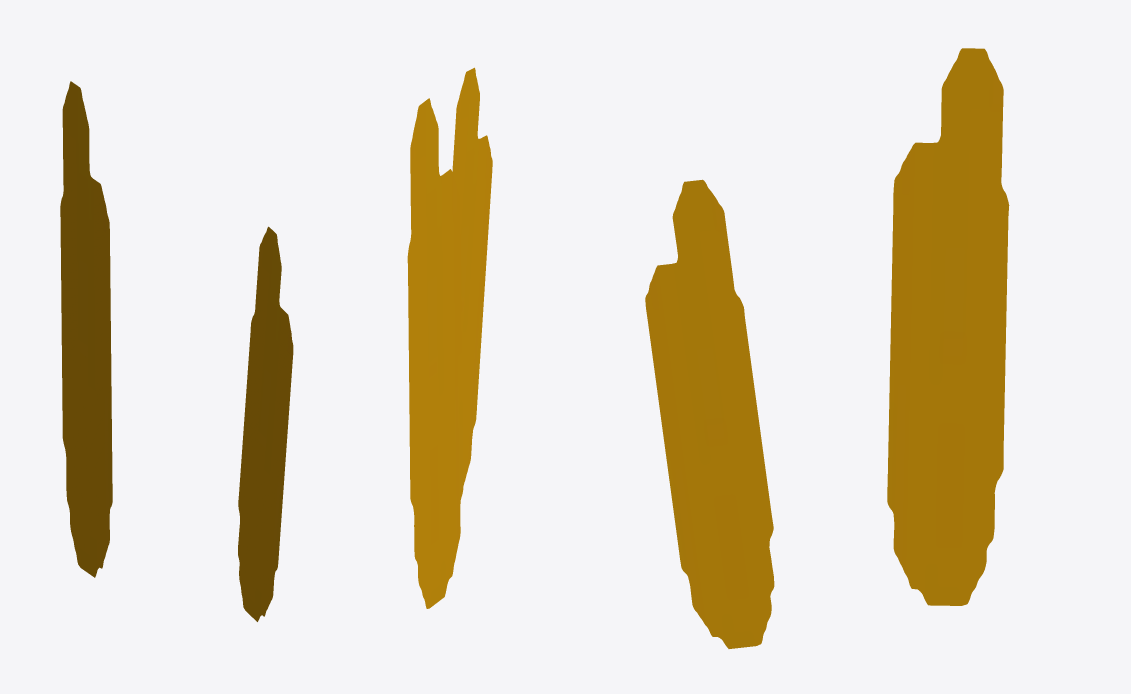
File: fire-torch03-art.glb
3 renders of one model, left to right at view 1: azimuth 30°, elevation 25°; view 2: azimuth 150°, elevation 25°; view 3: azimuth 270°, elevation 25°, orthographic. The views are drawn at different scales.
Visible parts, largest first — view 1: FireTorch03_Art; view 2: FireTorch03_Art; view 3: FireTorch03_Art.
Boxes of the visible parts, left/top/right/bottom form: FireTorch03_Art: left=60, top=81, right=293, bottom=621; FireTorch03_Art: left=407, top=67, right=492, bottom=608; FireTorch03_Art: left=645, top=48, right=1009, bottom=648.
Size of the model in its own units: 0.0407 by 0.2714 by 0.2198.
Materials: 1 (1 with a texture image).
